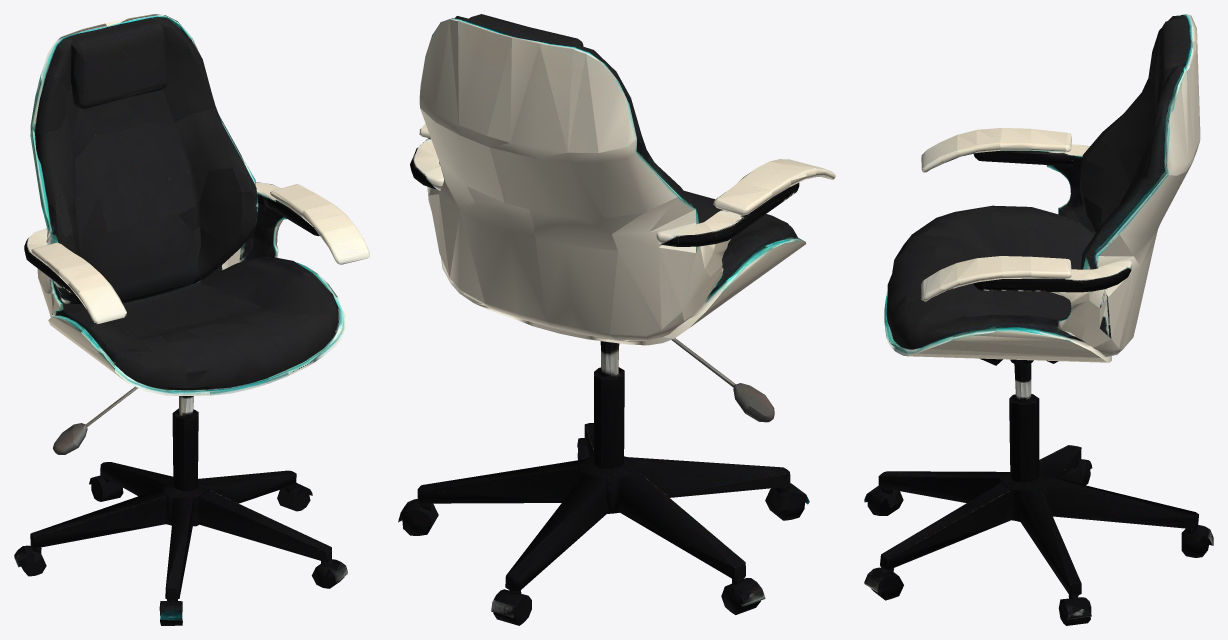
File: chair.glb
3 views of the same model, side by side, from view 1: azimuth 30°, elevation 25°; view 2: azimuth 150°, elevation 25°; view 3: azimuth 270°, elevation 25° (orthographic). The views are drawn at different scales.
Bounding box in the file's own units: 0.6809 × 1.05 × 0.648.
Materials: 1 (1 with a texture image).
